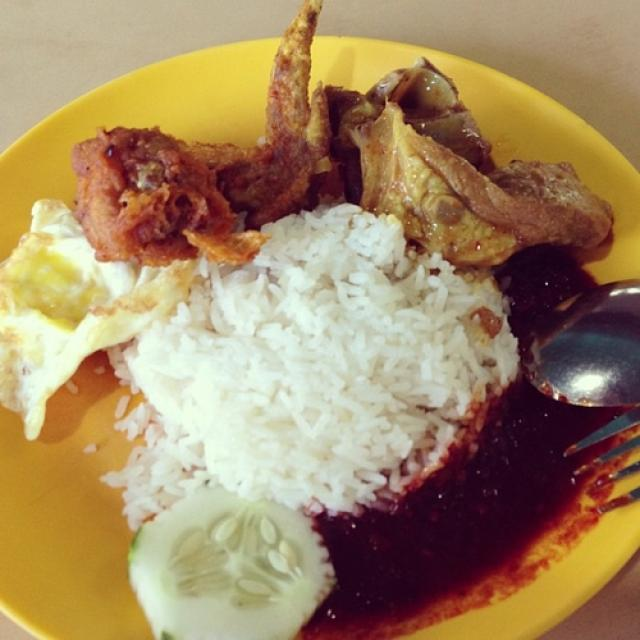米饭主食: (13, 16, 623, 618)
